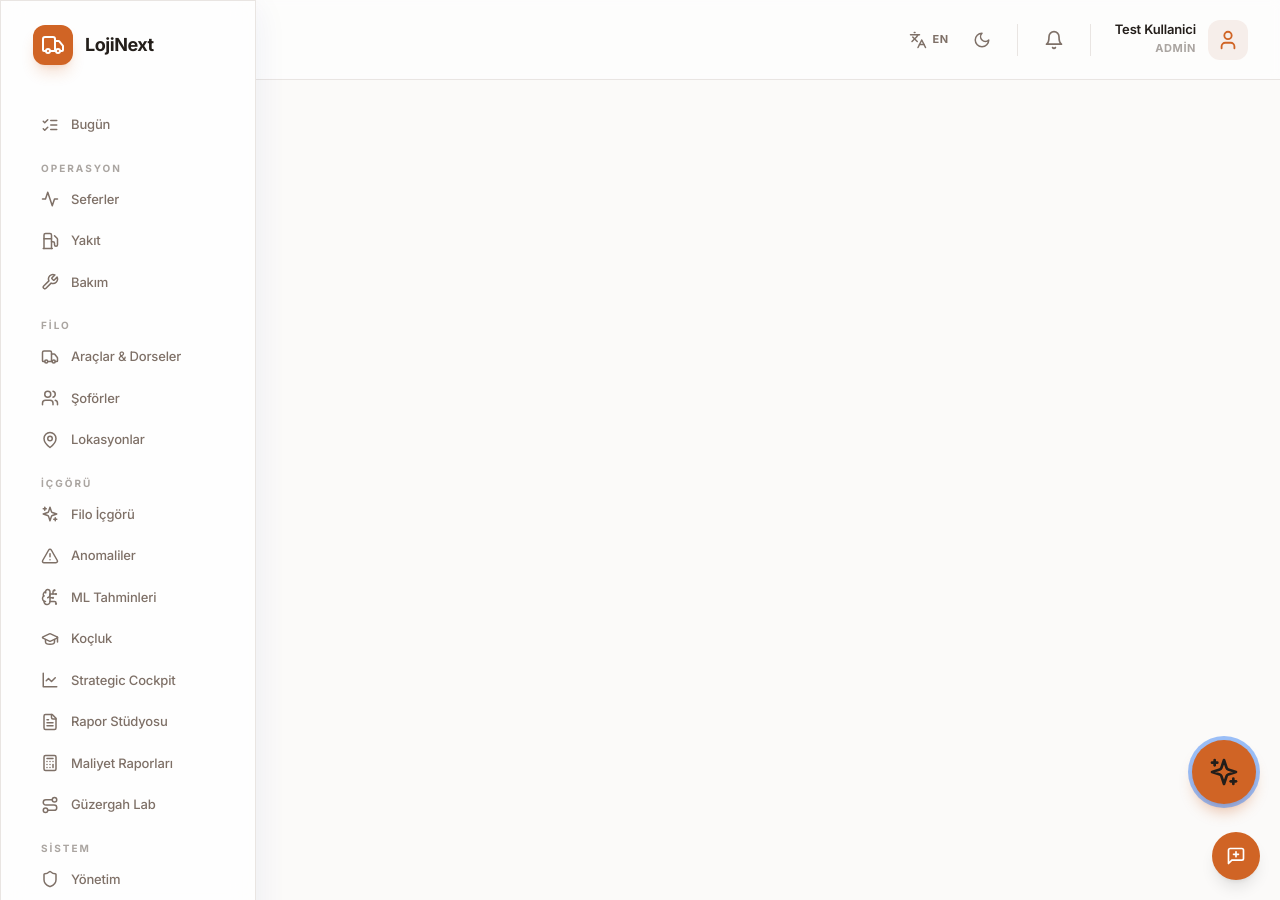
Test case: AppLayout › notification panel shows Tümünü okundu işaretle button
Click the button named "Bildirimler".
click(1054, 40)  # box [1034,20,1074,60]
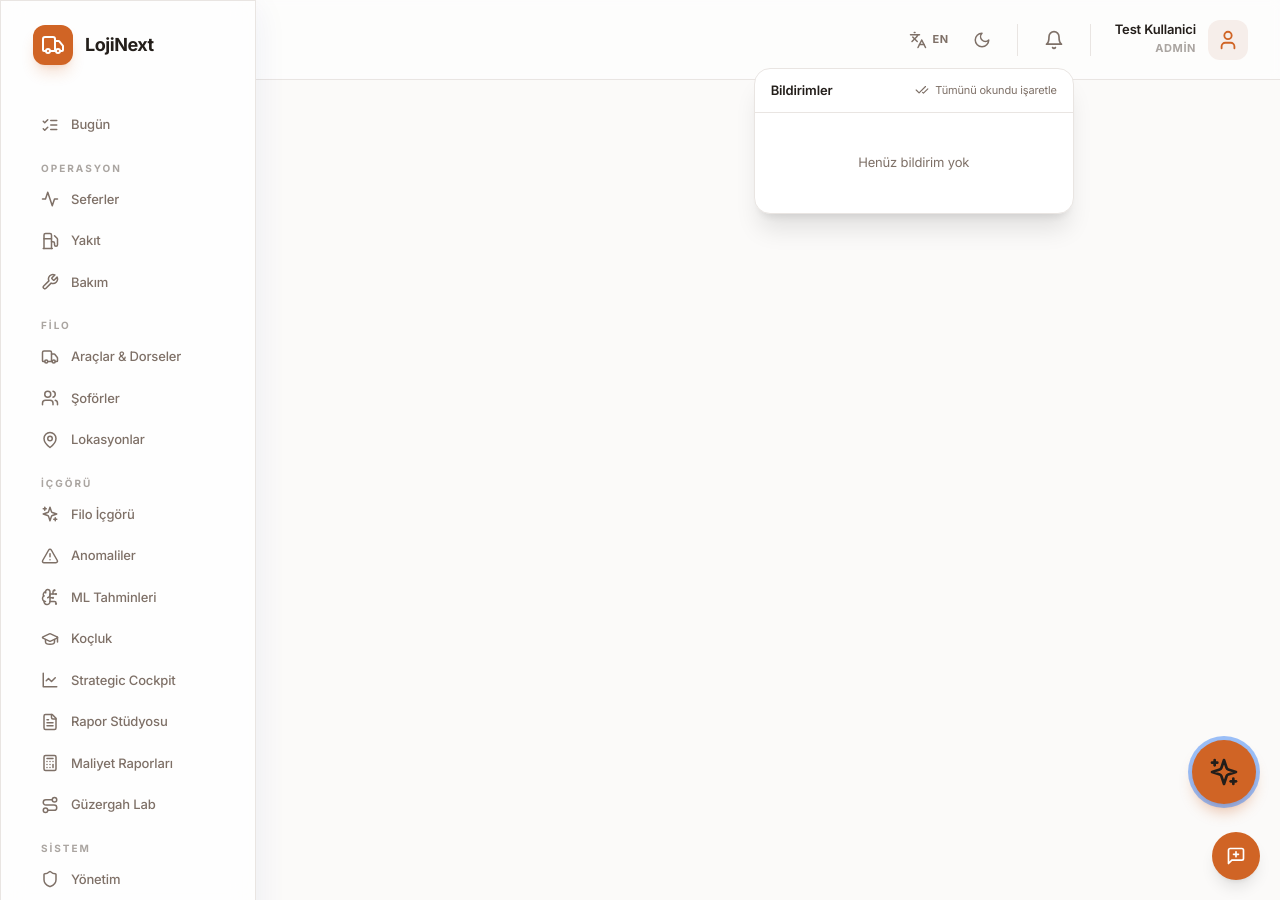
Expected: the button "Tümünü okundu işaretle" is shown, [915,82,1057,98]
